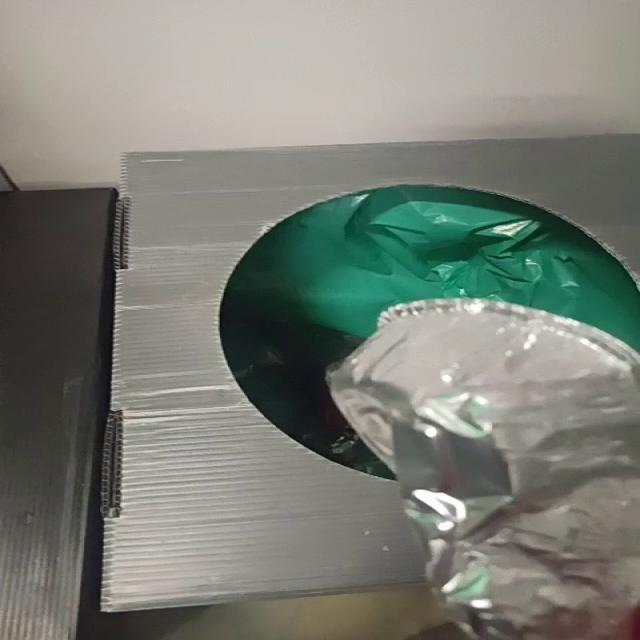Bin: (101, 135, 639, 612)
Metal: (328, 300, 639, 640)
